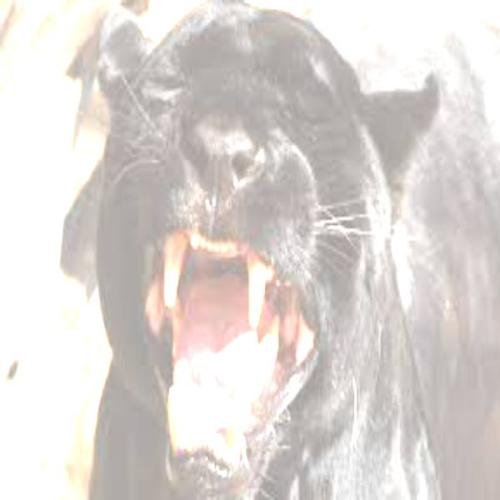panther-endangered: (103, 10, 484, 494)
